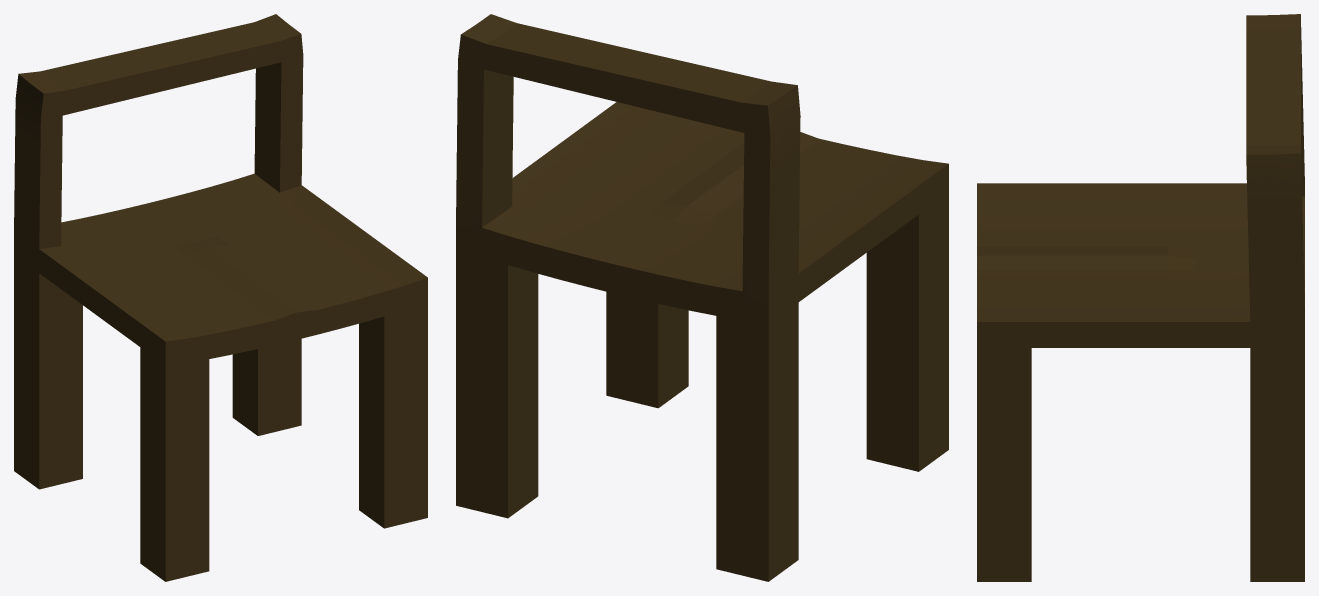
File: chear3.fbx
3 renders of one model, left to right at view 1: azimuth 30°, elevation 25°; view 2: azimuth 150°, elevation 25°; view 3: azimuth 270°, elevation 25°, orthographic. The views are drawn at different scales.
Parts seen in each view (by area): view 1: Cube; view 2: Cube; view 3: Cube.
Part boxes in pixels (x1,y1,x2,y2): Cube: (14,14,427,581); Cube: (456,14,948,581); Cube: (977,14,1304,581).
Bounding box in the file's own units: 200 × 290 × 200.
